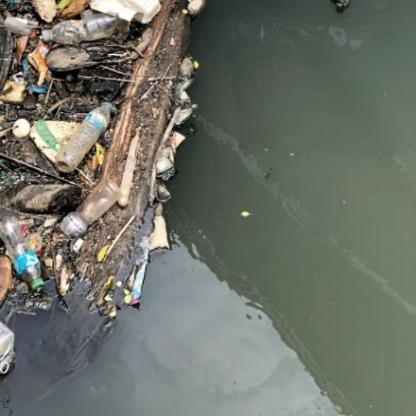Glass: (51, 176, 125, 247)
Plastic: (52, 98, 116, 174), (1, 213, 48, 293), (38, 12, 124, 47)
